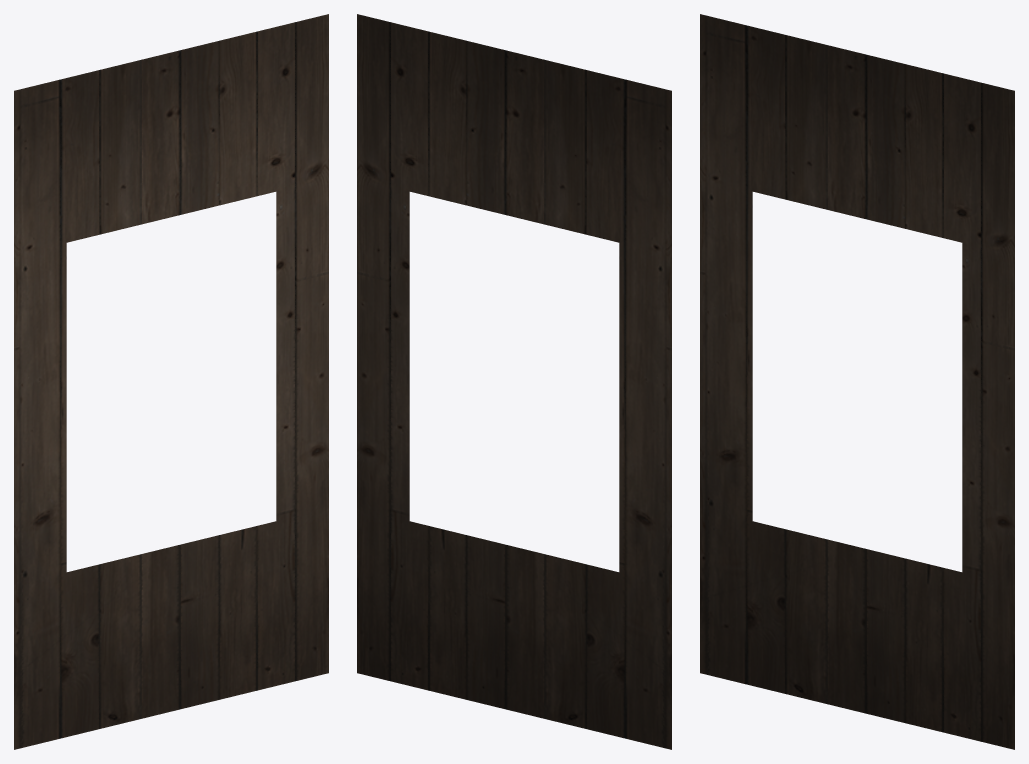
Rendered from Wall.W_3x1.5_Window.fbx.
3 renders of one model, left to right at view 1: azimuth 30°, elevation 25°; view 2: azimuth 150°, elevation 25°; view 3: azimuth 330°, elevation 25°, orthographic.
Visible parts, largest first — view 1: Wall.W_3x1.5_Window; view 2: Wall.W_3x1.5_Window; view 3: Wall.W_3x1.5_Window.
Boxes of the visible parts, box(x1,y1,x2,y2) form: Wall.W_3x1.5_Window: box(14, 14, 328, 749); Wall.W_3x1.5_Window: box(357, 14, 671, 749); Wall.W_3x1.5_Window: box(700, 14, 1014, 749).
Size of the model in its own units: 150 by 300 by 4.89e-05.
